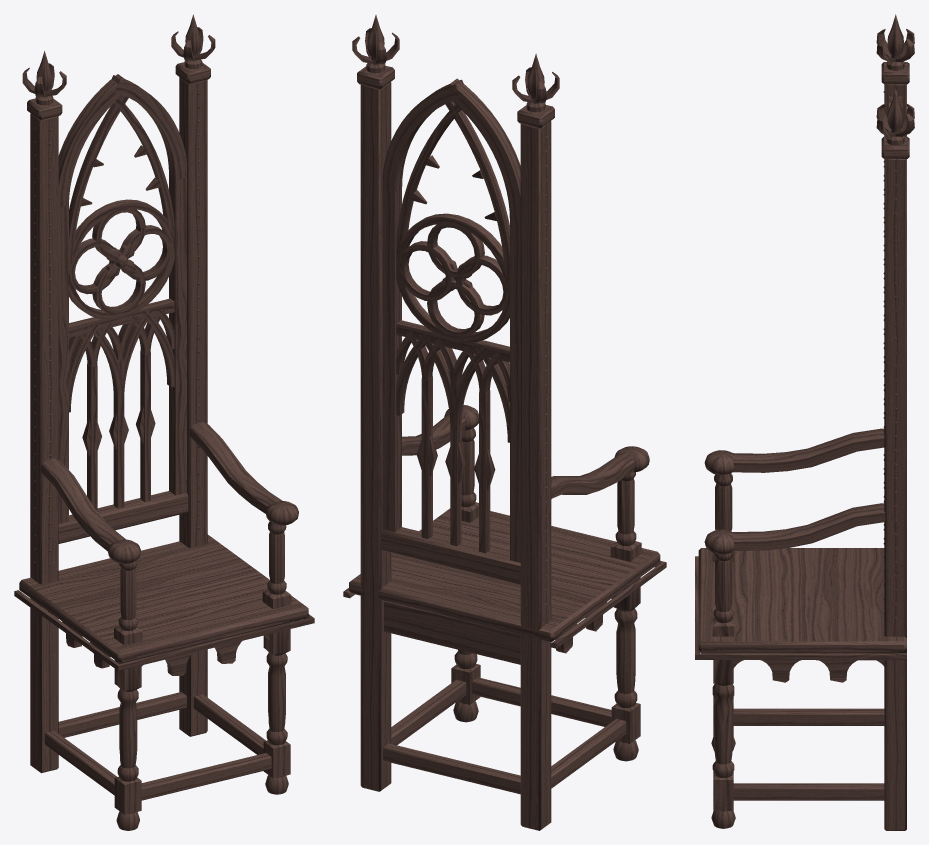
Rendered from gothic-armchair_final.glb.
The picture shows the model from 3 angles, left to right: view 1: azimuth 30°, elevation 25°; view 2: azimuth 150°, elevation 25°; view 3: azimuth 270°, elevation 25°; orthographic projection. The views are drawn at different scales.
Parts seen in each view (by area): view 1: SM_GothicArmchair; view 2: SM_GothicArmchair; view 3: SM_GothicArmchair.
Part boxes in pixels (left/top/right/bottom): SM_GothicArmchair: left=14, top=14, right=314, bottom=830; SM_GothicArmchair: left=343, top=15, right=666, bottom=830; SM_GothicArmchair: left=695, top=14, right=914, bottom=830.
Size of the model in its own units: 0.52 by 1.8 by 0.4851.
Materials: 1 (1 with a texture image).
